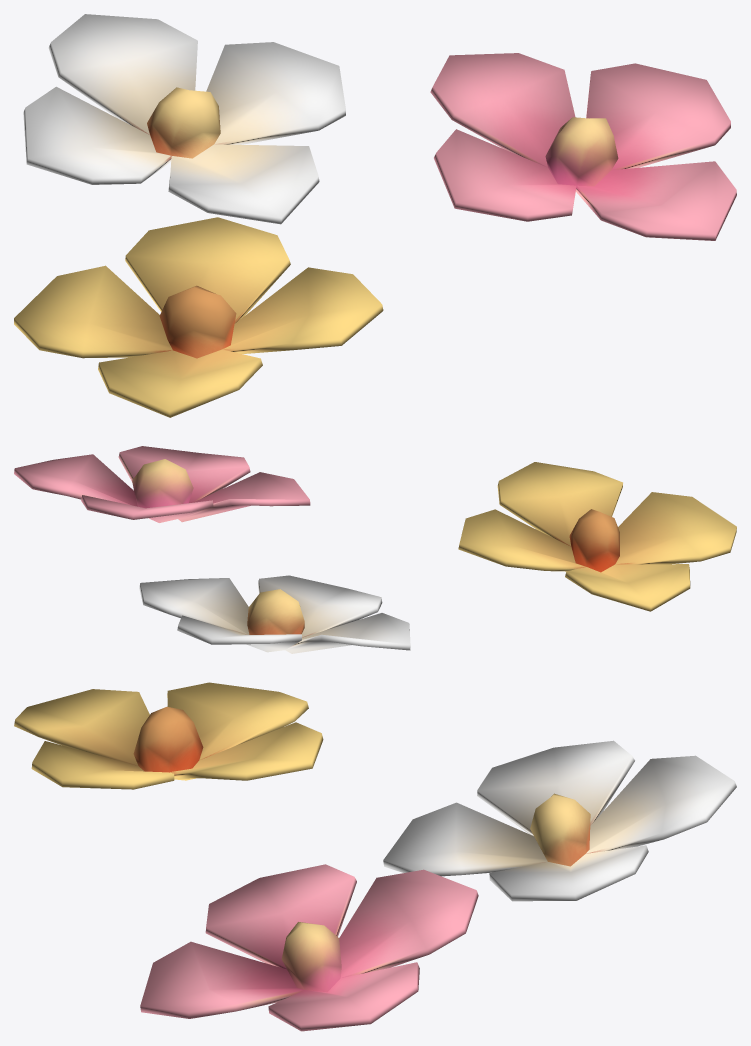
File: 3DObj_FlowerV2.fbx
3 views of the same model, one above another, from view 1: azimuth 30°, elevation 25°; view 2: azimuth 150°, elevation 25°; view 3: azimuth 270°, elevation 25° (orthographic). The views are drawn at different scales.
Parts seen in each view (by area): view 1: 3DObj_FlowerWhiteV2, 3DObj_FlowerPinkV2, 3DObj_FlowerYellowV2; view 2: 3DObj_FlowerYellowV2, 3DObj_FlowerWhiteV2, 3DObj_FlowerPinkV2; view 3: 3DObj_FlowerPinkV2, 3DObj_FlowerWhiteV2, 3DObj_FlowerYellowV2.
Boxes of the visible parts, x1=… form: 3DObj_FlowerWhiteV2: x1=23, y1=14, x2=345, y2=224; 3DObj_FlowerPinkV2: x1=430, y1=53, x2=736, y2=240; 3DObj_FlowerYellowV2: x1=14, y1=217, x2=383, y2=417; 3DObj_FlowerYellowV2: x1=458, y1=462, x2=736, y2=611; 3DObj_FlowerWhiteV2: x1=139, y1=575, x2=410, y2=653; 3DObj_FlowerPinkV2: x1=14, y1=446, x2=310, y2=522; 3DObj_FlowerPinkV2: x1=140, y1=864, x2=478, y2=1031; 3DObj_FlowerWhiteV2: x1=383, y1=740, x2=736, y2=901; 3DObj_FlowerYellowV2: x1=14, y1=682, x2=323, y2=789.
Bounding box in the file's own units: 42.63 × 4.6 × 36.77.
Materials: 3 (3 with a texture image).
